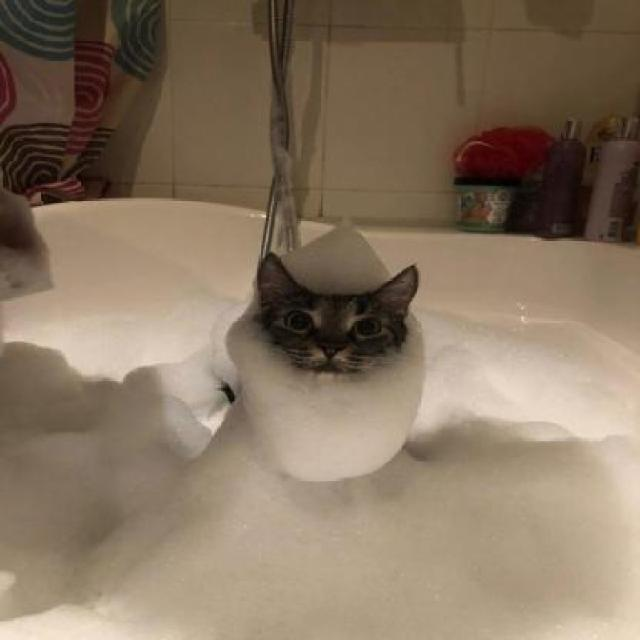cat: (239, 242, 423, 381)
